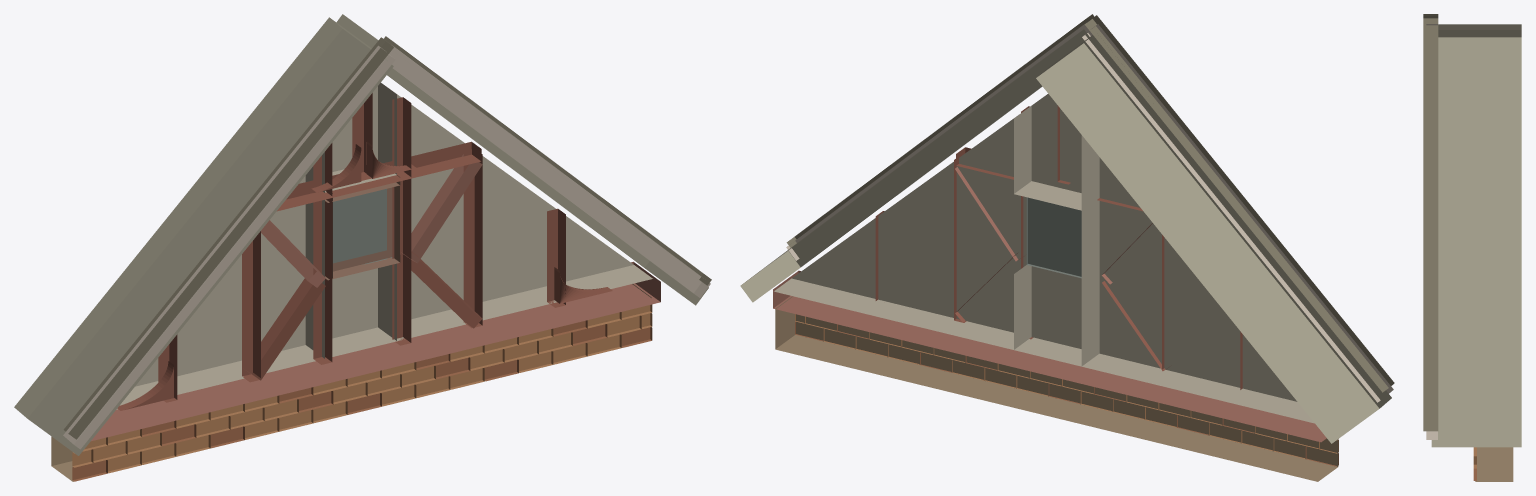
The model's file is hongkou-dongtiyuhui-23-timber-gable-raw.glb.
3 views of the same model, side by side, from view 1: azimuth 30°, elevation 25°; view 2: azimuth 150°, elevation 25°; view 3: azimuth 270°, elevation 25° (orthographic). The views are drawn at different scales.
Visible parts, largest first — view 1: 东体育会路119弄23号住宅露木山花与弧形角撑; view 2: 东体育会路119弄23号住宅露木山花与弧形角撑; view 3: 东体育会路119弄23号住宅露木山花与弧形角撑.
Part boxes in pixels (x1=…): 东体育会路119弄23号住宅露木山花与弧形角撑: x1=14, y1=14, x2=711, y2=481; 东体育会路119弄23号住宅露木山花与弧形角撑: x1=740, y1=14, x2=1394, y2=481; 东体育会路119弄23号住宅露木山花与弧形角撑: x1=1423, y1=14, x2=1521, y2=481.
Size of the model in its own units: 4.47 by 2.59 by 0.674.
